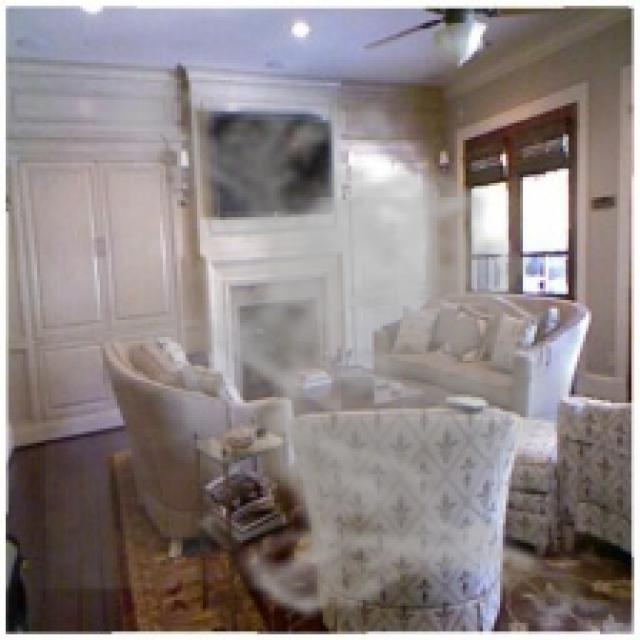smoke: (46, 65, 611, 626)
